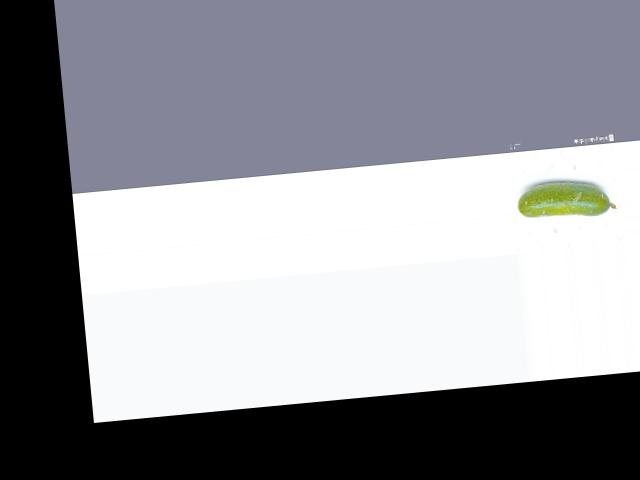cucumber: (515, 176, 616, 223)
